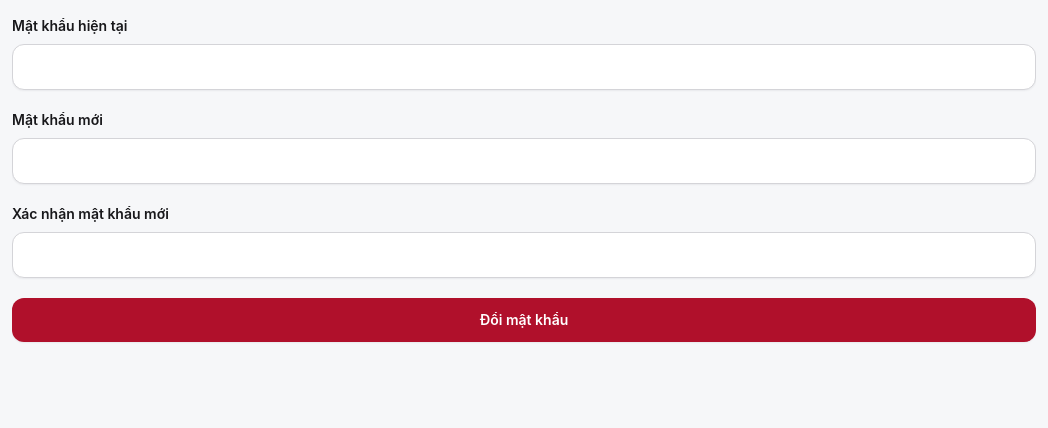
Test: ChangePasswordForm › submits only the unchanged password fields and renders action errors
Type "safe-test-value" into the password field labelled "Mật khẩu hiện tại" at point(524, 67), box top-left (12, 44), bottom-right (1036, 90)
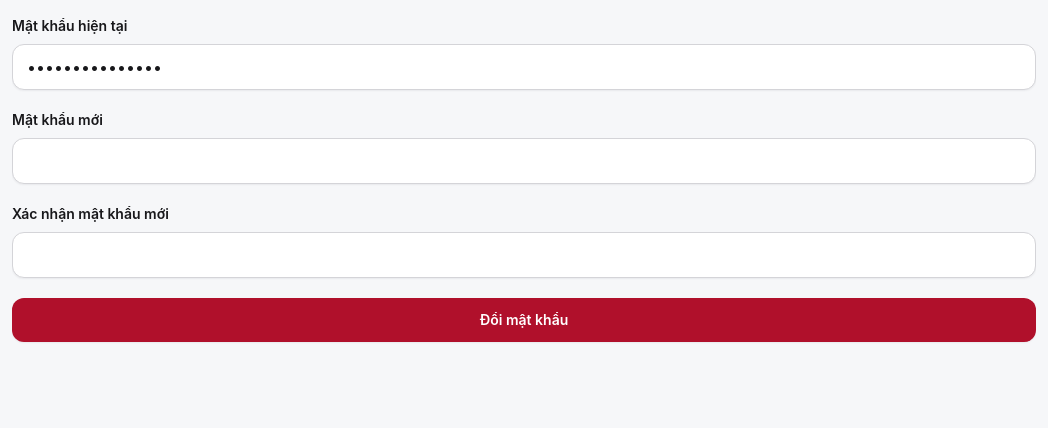
Type "safe-test-value" into the password field labelled "Mật khẩu mới" at point(524, 161), box top-left (12, 138), bottom-right (1036, 184)
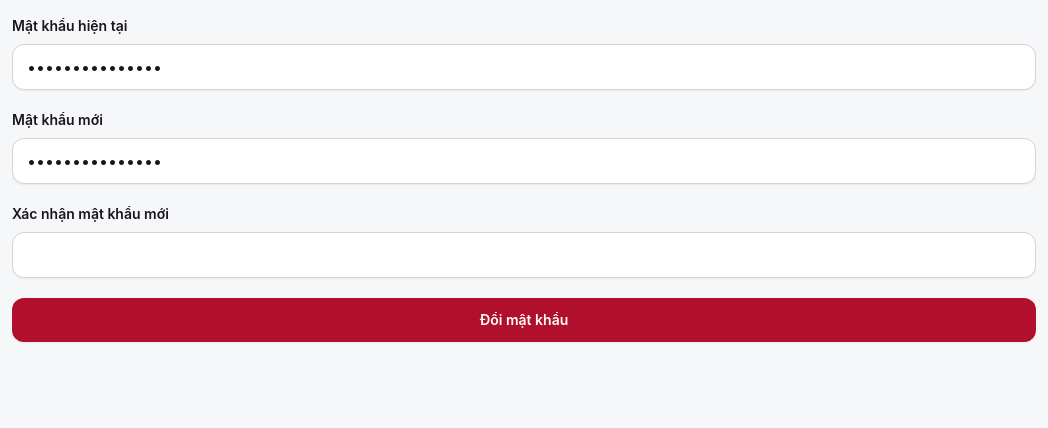
Type "safe-test-value" into the password field labelled "Xác nhận mật khẩu mới" at point(524, 255), box top-left (12, 232), bottom-right (1036, 278)
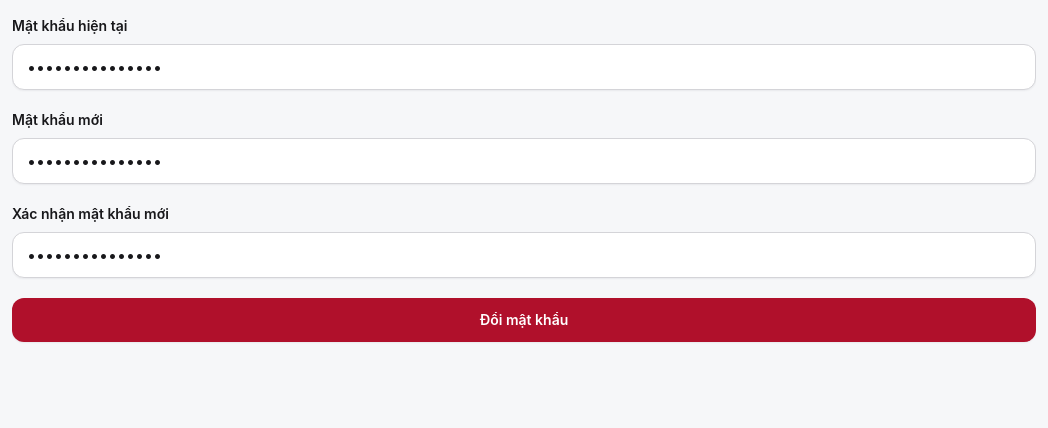
Submit the form
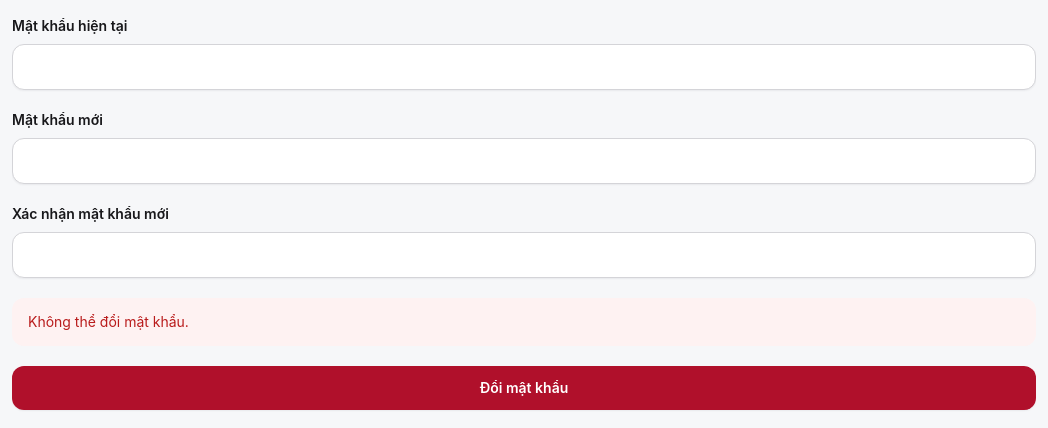
Now the message reads "Không thể đổi mật khẩu.", box top-left (28, 313), bottom-right (189, 330)
